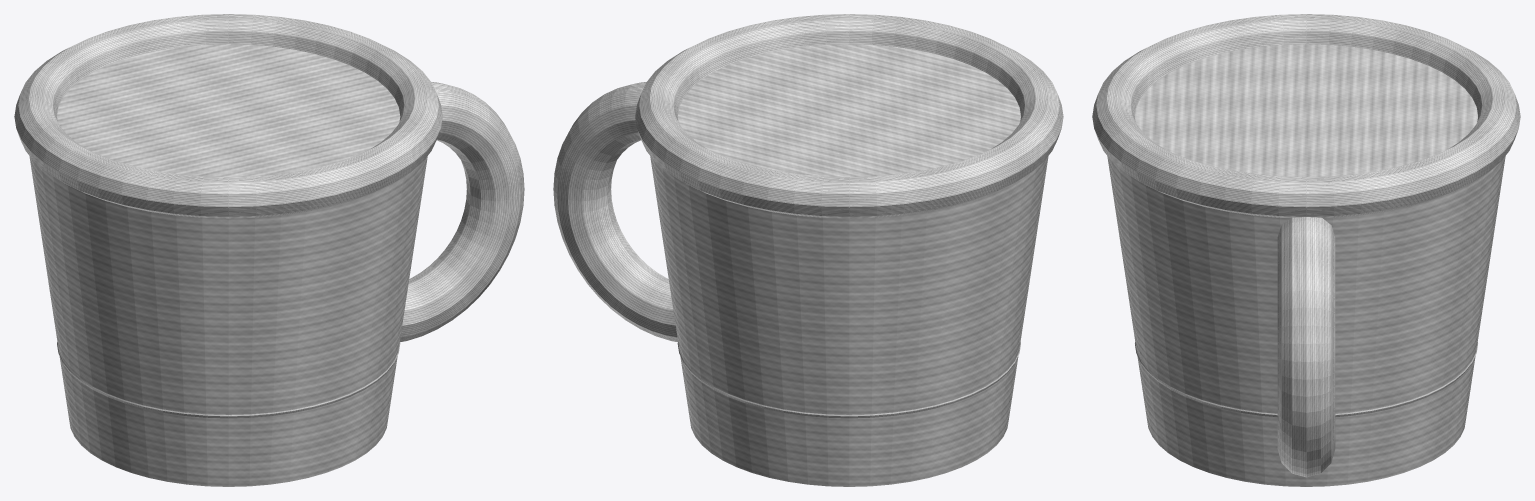
Rendered from cup_variant_b.glb.
3 renders of one model, left to right at view 1: azimuth 30°, elevation 25°; view 2: azimuth 150°, elevation 25°; view 3: azimuth 270°, elevation 25°, orthographic.
Visible parts, largest first — view 1: Gold cup body, Gold rolled rim, Gold cup handle, Gold base ring; view 2: Gold cup body, Gold rolled rim, Gold cup handle, Gold base ring; view 3: Gold cup body, Gold rolled rim, Gold cup handle, Gold base ring.
Part boxes in pixels (bbox=[...]): Gold cup body: bbox=[29, 44, 427, 486]; Gold rolled rim: bbox=[14, 14, 442, 218]; Gold cup handle: bbox=[400, 82, 524, 342]; Gold base ring: bbox=[57, 342, 400, 418]; Gold cup body: bbox=[650, 44, 1048, 486]; Gold rolled rim: bbox=[635, 14, 1063, 218]; Gold cup handle: bbox=[553, 82, 677, 342]; Gold base ring: bbox=[677, 342, 1020, 418]; Gold cup body: bbox=[1107, 44, 1505, 486]; Gold rolled rim: bbox=[1092, 14, 1520, 217]; Gold cup handle: bbox=[1277, 217, 1335, 477]; Gold base ring: bbox=[1135, 342, 1477, 417].
Size of what is drawn, in the model's own units: 0.363 by 0.2333 by 0.282.
3 materials, 3 textured.
